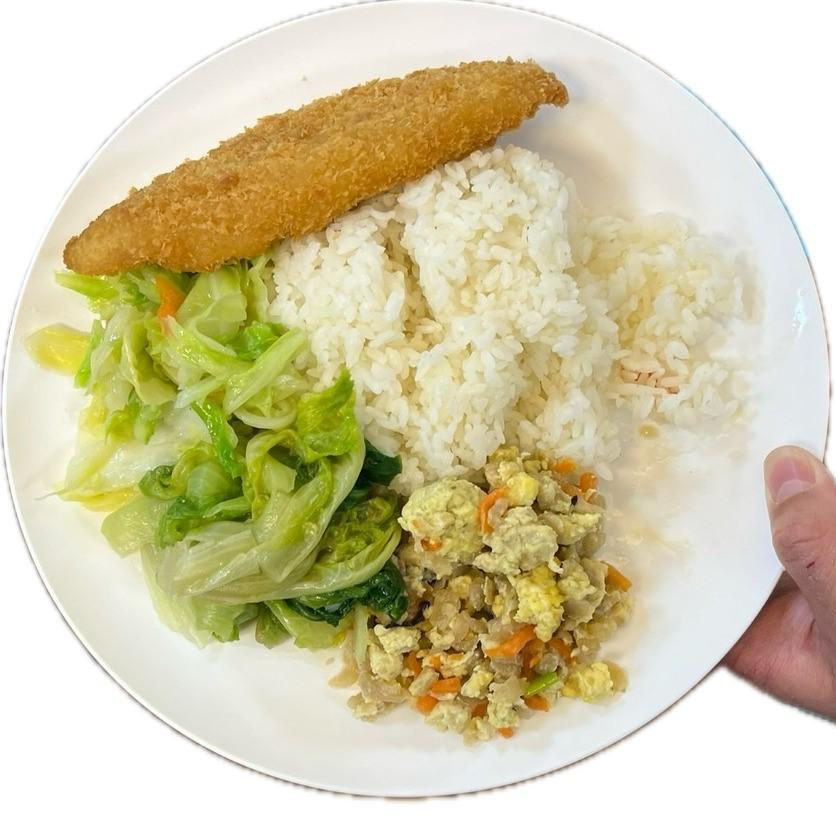big fried chicken leg: (2, 2, 836, 806)
big herbal chicken leg: (268, 146, 760, 466)
braised fish fillet: (30, 272, 413, 651), (357, 456, 626, 742)
braised pork: (56, 48, 564, 282)
